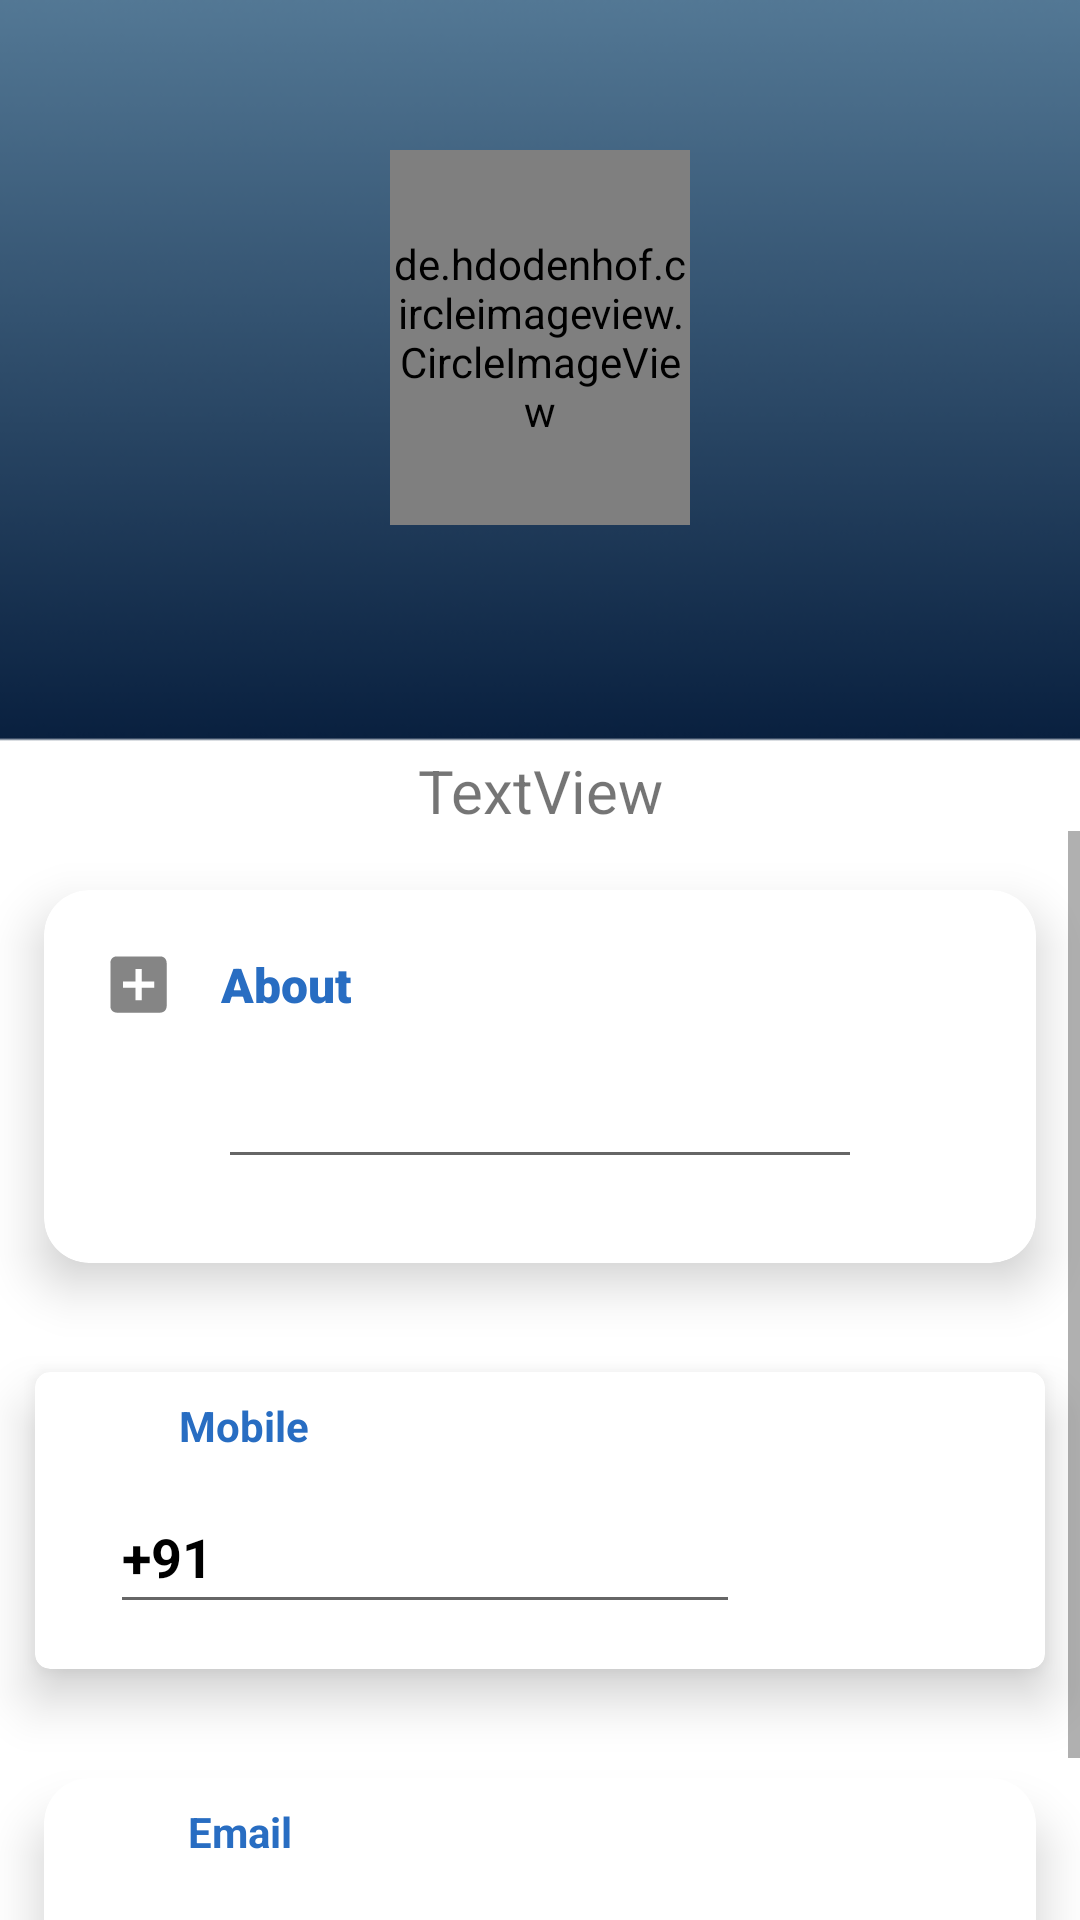

Where to tap for icons on this 1080w x 1920h app screen, as (x=x, y=y):
add: (x=138, y=984)
